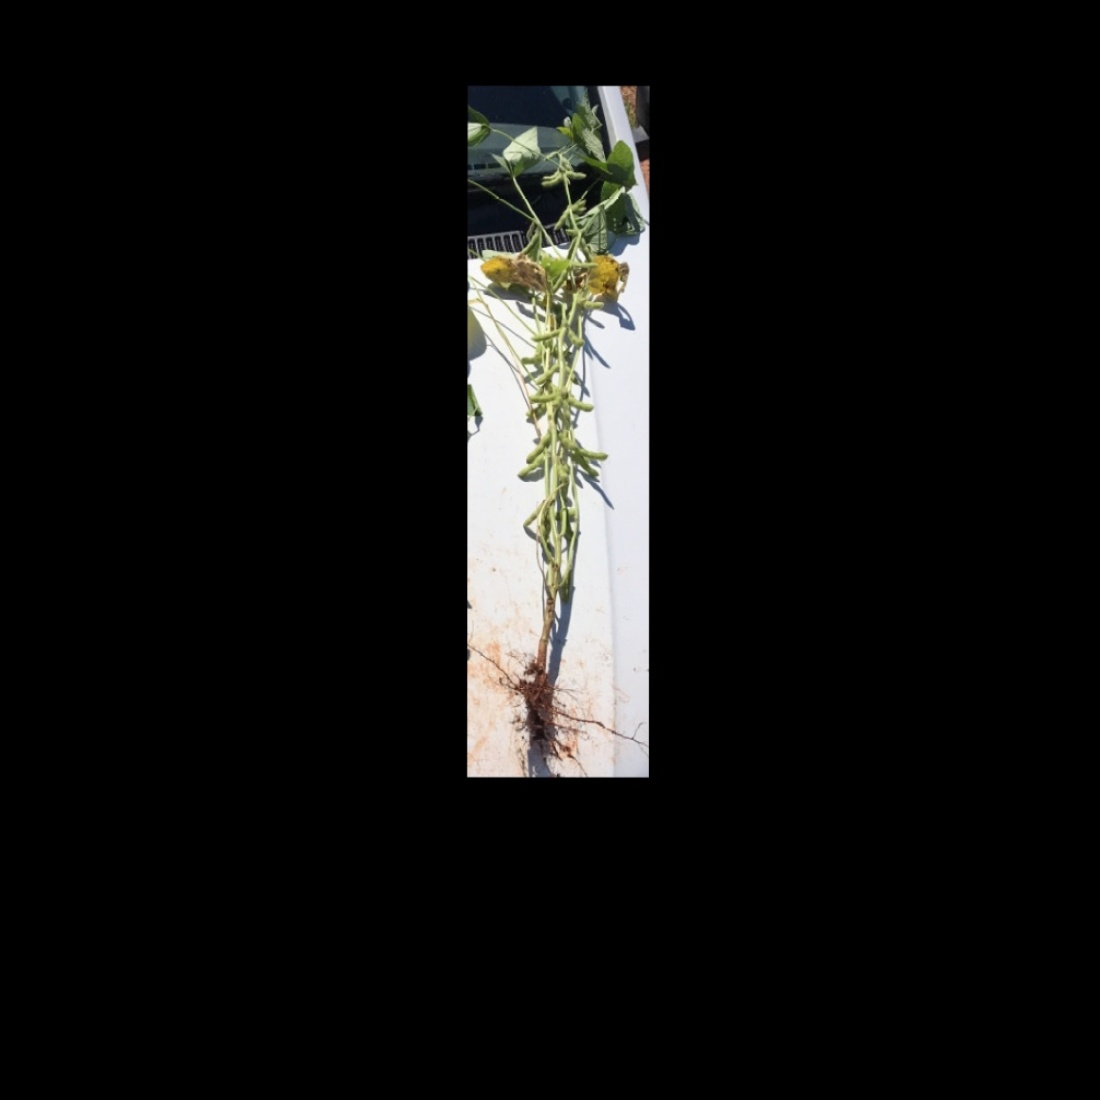pod: (525, 430, 553, 464), (570, 442, 608, 463), (553, 427, 581, 455), (562, 391, 597, 412), (515, 456, 544, 482), (532, 360, 561, 385), (521, 497, 543, 529), (562, 323, 586, 350), (529, 327, 561, 343), (526, 389, 557, 404), (576, 298, 606, 313), (551, 210, 568, 234)
soy: (474, 107, 637, 754)
